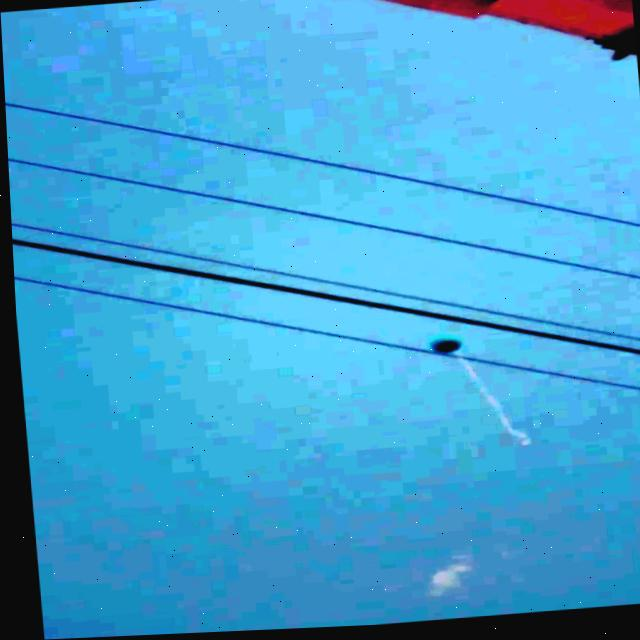obstruction: (426, 339, 523, 448)
wires: (4, 101, 640, 232), (6, 156, 640, 285), (9, 221, 640, 347), (10, 238, 640, 360), (11, 275, 428, 356), (437, 356, 640, 397)
